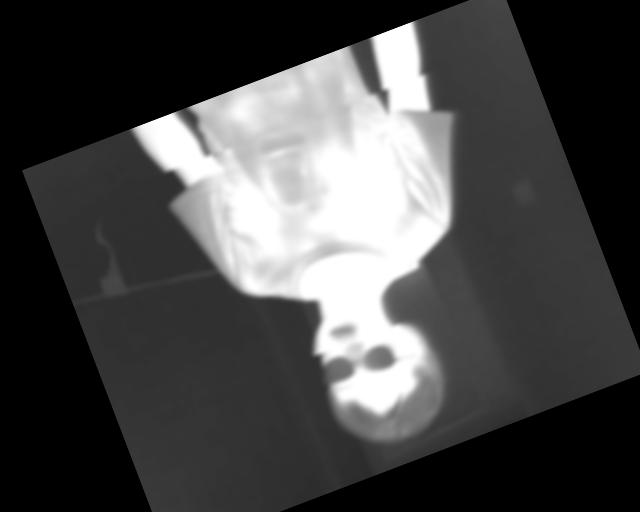face: (294, 279, 462, 464)
